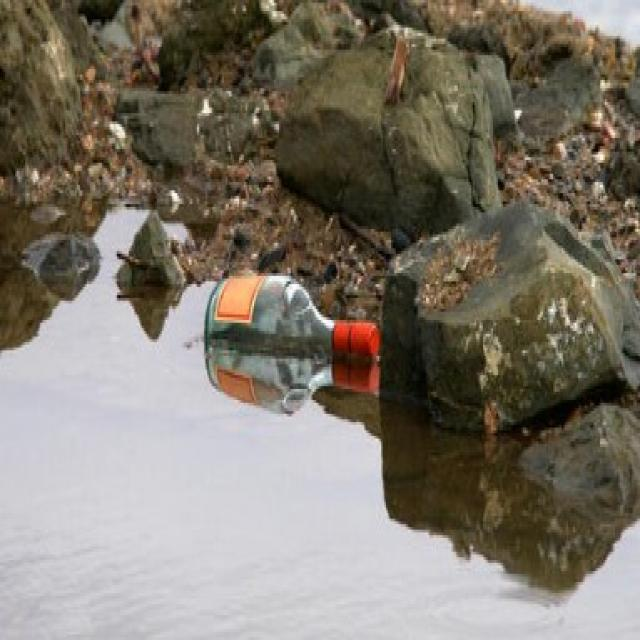electronic: (203, 274, 383, 359)
